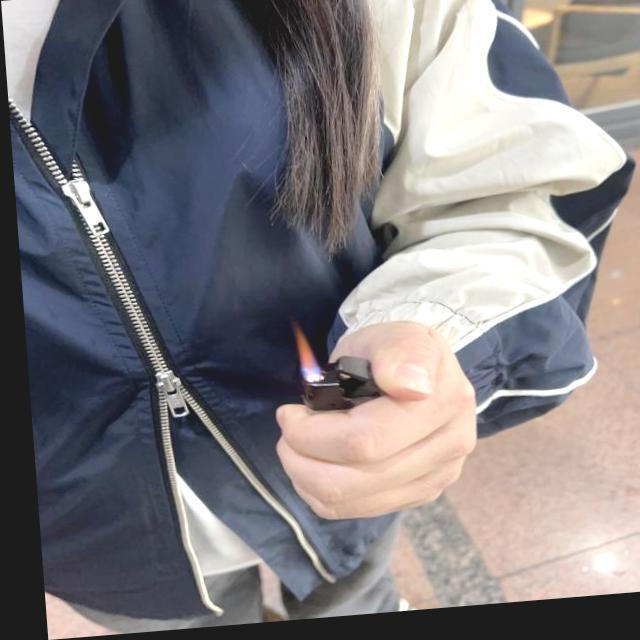helmet: (287, 324, 312, 387)
